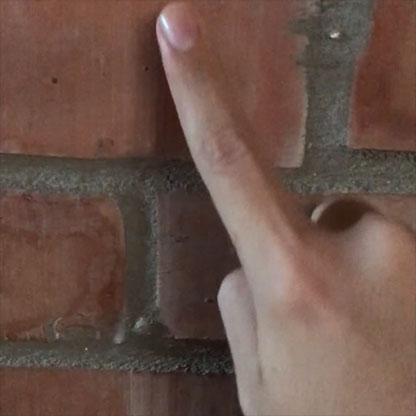fingertip: (150, 3, 220, 53)
